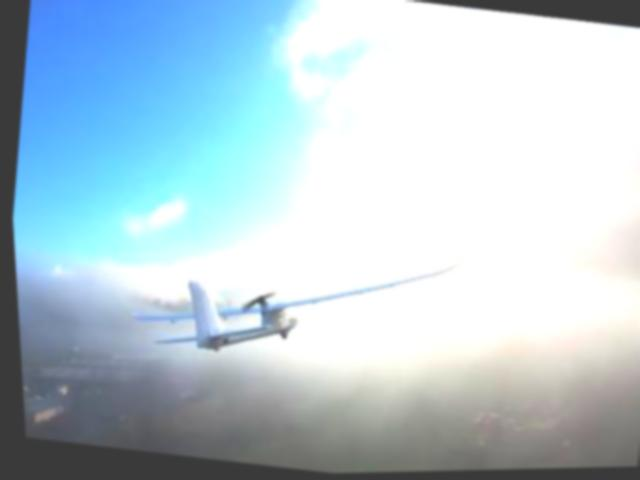uav: (112, 206, 474, 409)
